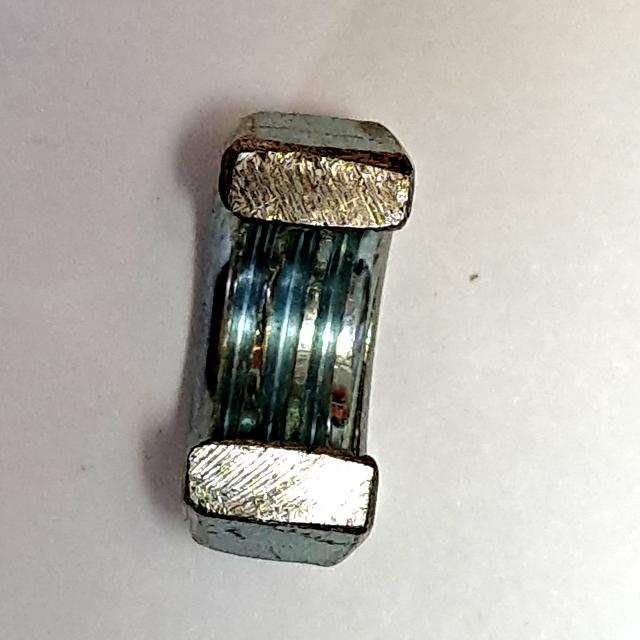Side-Fracture: (166, 98, 429, 581)
